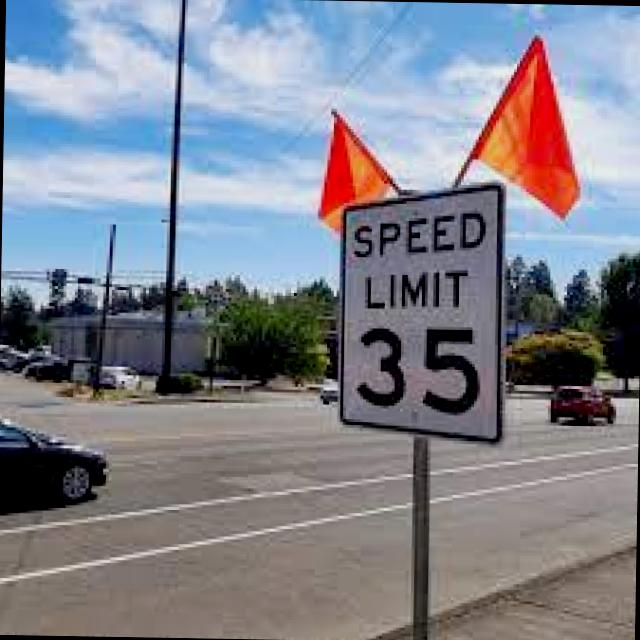Speed Limit Signs: (331, 176, 508, 444)
